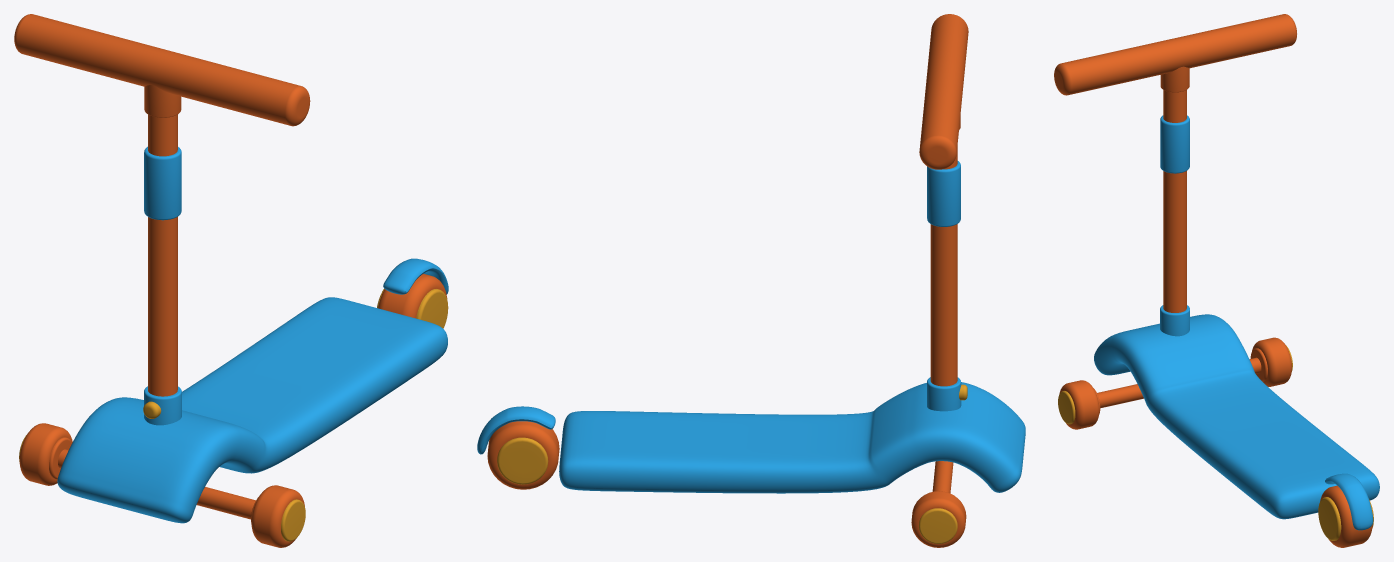
File: Skate_Board_.fbx
3 views of the same model, side by side, from view 1: azimuth 30°, elevation 25°; view 2: azimuth 150°, elevation 25°; view 3: azimuth 270°, elevation 25° (orthographic). The views are drawn at different scales.
Visible parts, largest first — view 1: skate board, Cylinder.002, Cylinder, Cylinder.003, Cylinder.001, Plane.002, Cylinder.006, Cylinder.004, Cylinder.005; view 2: skate board, Cylinder.002, Cylinder.001, Cylinder, Cylinder.003, Cylinder.006, Plane.002, Cylinder.005, Cylinder.004; view 3: skate board, Cylinder.002, Cylinder, Cylinder.003, Plane.002, Cylinder.001, Cylinder.006, Cylinder.004, Cylinder.005.
Part boxes in pixels (bbox=[...]): skate board: bbox=[57, 297, 447, 523]; Cylinder.002: bbox=[14, 14, 310, 396]; Cylinder: bbox=[19, 423, 304, 547]; Cylinder.003: bbox=[144, 146, 181, 220]; Cylinder.001: bbox=[378, 273, 447, 318]; Plane.002: bbox=[383, 258, 448, 294]; Cylinder.006: bbox=[377, 288, 448, 328]; Cylinder.004: bbox=[144, 386, 181, 425]; Cylinder.005: bbox=[19, 435, 305, 541]; skate board: bbox=[559, 382, 1025, 493]; Cylinder.002: bbox=[919, 14, 968, 386]; Cylinder.001: bbox=[487, 421, 559, 489]; Cylinder: bbox=[911, 461, 966, 547]; Cylinder.003: bbox=[927, 161, 960, 226]; Cylinder.006: bbox=[497, 437, 548, 484]; Plane.002: bbox=[477, 406, 555, 454]; Cylinder.005: bbox=[918, 508, 957, 543]; Cylinder.004: bbox=[927, 377, 961, 411]; skate board: bbox=[1094, 314, 1379, 519]; Cylinder.002: bbox=[1054, 14, 1296, 312]; Cylinder: bbox=[1059, 337, 1291, 429]; Cylinder.003: bbox=[1160, 115, 1189, 173]; Plane.002: bbox=[1325, 473, 1373, 530]; Cylinder.001: bbox=[1320, 485, 1372, 547]; Cylinder.006: bbox=[1318, 497, 1373, 540]; Cylinder.004: bbox=[1160, 305, 1189, 336]; Cylinder.005: bbox=[1058, 345, 1292, 424].
Bounding box in the file's own units: 255 × 228 × 184.
